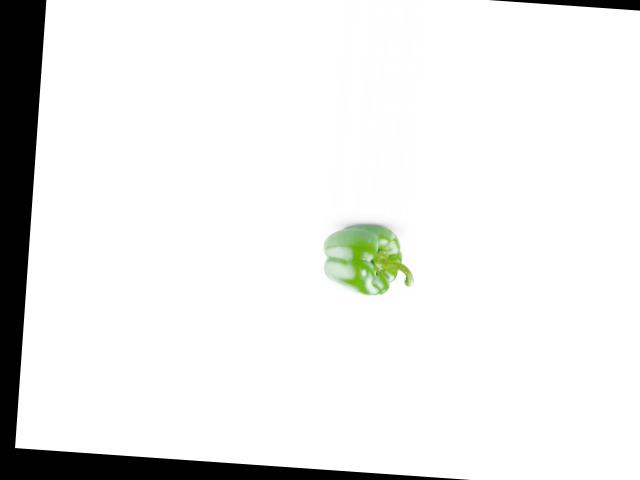bell_pepper: (317, 222, 419, 299)
